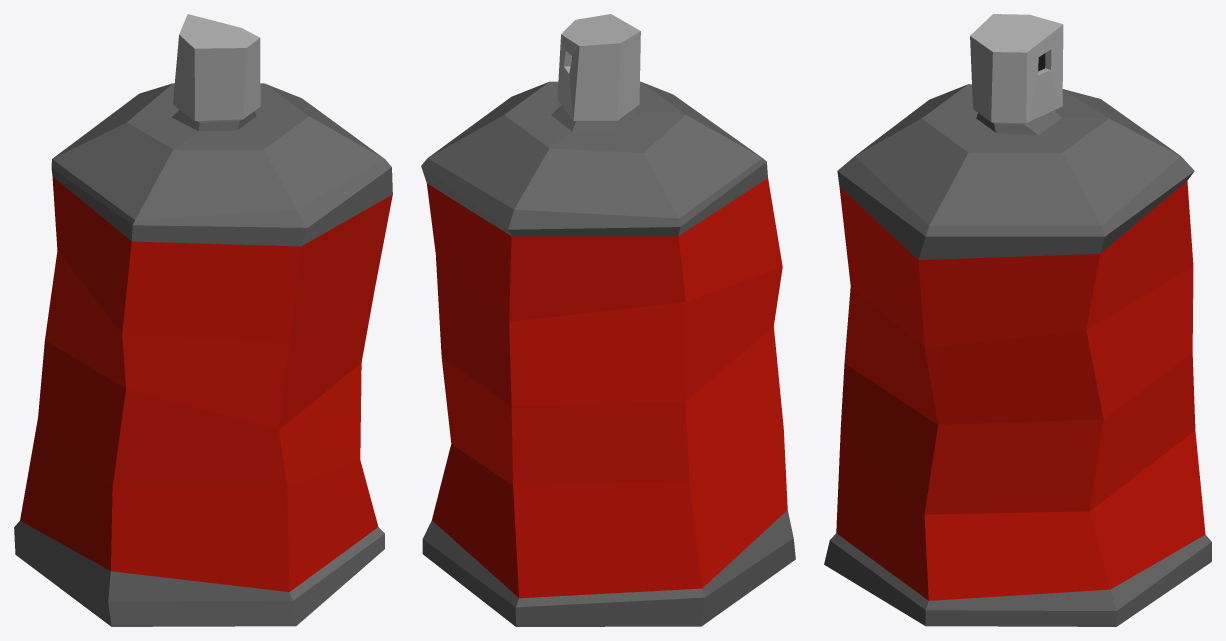
The model's file is RedCan.fbx.
3 renders of one model, left to right at view 1: azimuth 30°, elevation 25°; view 2: azimuth 150°, elevation 25°; view 3: azimuth 270°, elevation 25°, orthographic. The views are drawn at different scales.
Parts seen in each view (by area): view 1: RedCan; view 2: RedCan; view 3: RedCan.
Part boxes in pixels (box(x1,y1,x2,y2)): RedCan: box(14, 14, 392, 626); RedCan: box(421, 14, 795, 626); RedCan: box(824, 14, 1211, 626).
Size of the model in its own units: 13.49 by 23.65 by 15.27.
